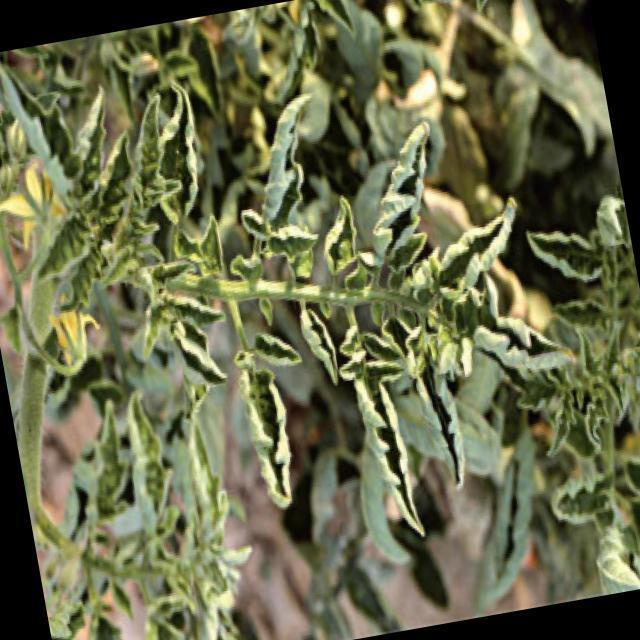Yellow Curl Virus: (222, 78, 345, 270), (361, 114, 456, 274), (353, 379, 424, 549), (110, 389, 180, 547), (410, 345, 480, 499), (235, 367, 303, 513), (471, 302, 582, 380), (114, 91, 181, 219), (523, 222, 603, 284)
